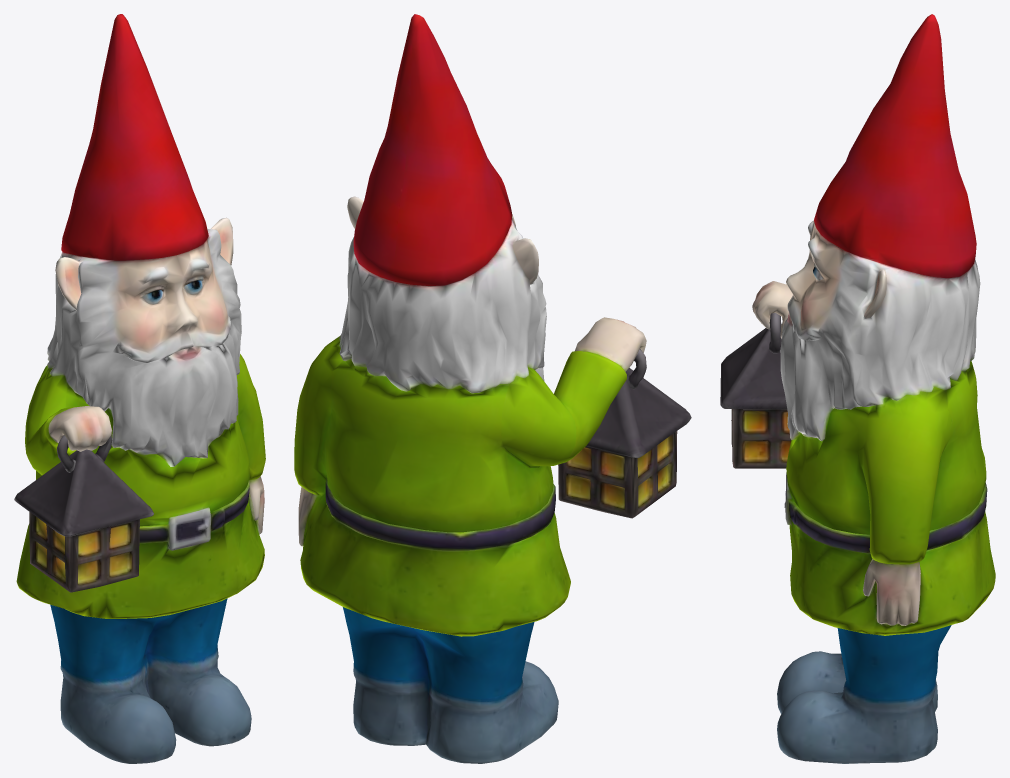
Rendered from gnome.glb.
3 renders of one model, left to right at view 1: azimuth 30°, elevation 25°; view 2: azimuth 150°, elevation 25°; view 3: azimuth 270°, elevation 25°, orthographic. The views are drawn at different scales.
Visible parts, largest first — view 1: garden_gnome; view 2: garden_gnome; view 3: garden_gnome.
Boxes of the visible parts, x1,y1,x2,y2 form: garden_gnome: (14, 14, 265, 763); garden_gnome: (294, 14, 691, 763); garden_gnome: (720, 14, 995, 763).
Bounding box in the file's own units: 0.2574 × 0.5989 × 0.2097.
Materials: 1 (1 with a texture image).
